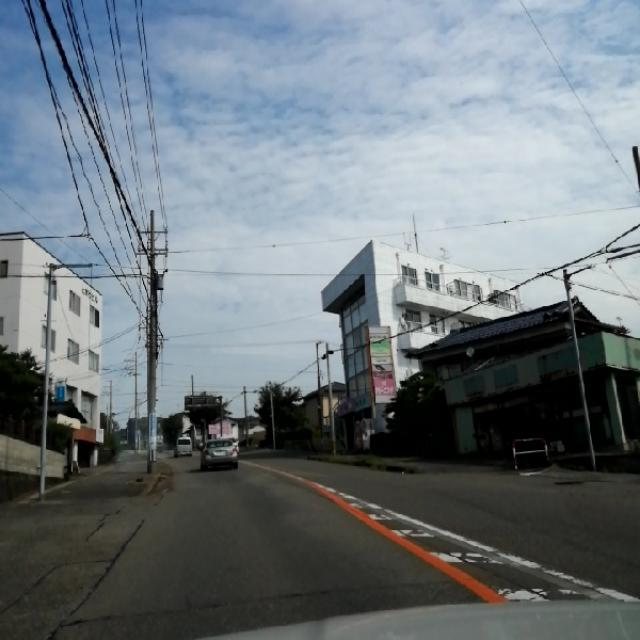pothole: (28, 485, 99, 625)
